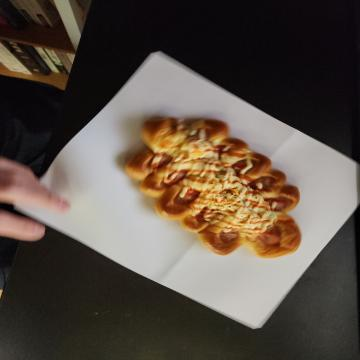pizza_bread: (115, 57, 258, 239)
